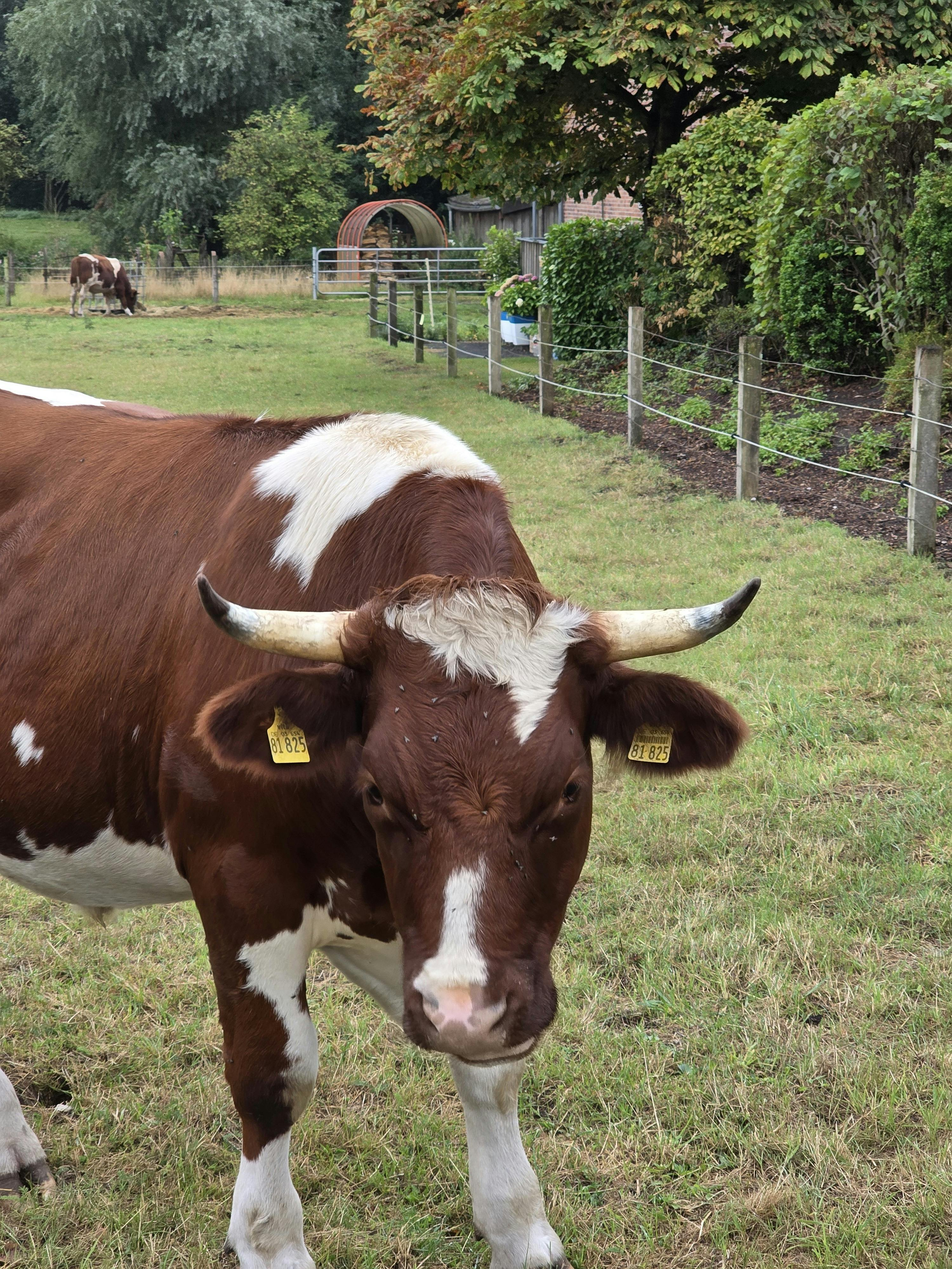bovino: (0, 394, 699, 1269)
